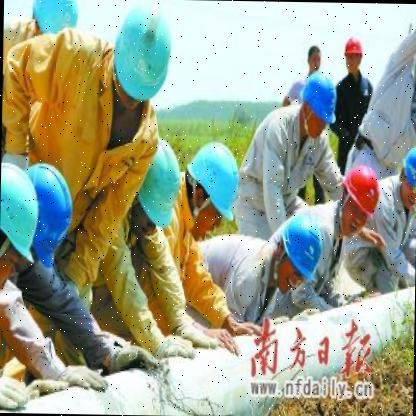capacete: (108, 5, 176, 106), (22, 160, 75, 270), (187, 136, 241, 221), (132, 140, 181, 232), (0, 151, 38, 269), (276, 208, 326, 286), (24, 0, 80, 62), (336, 156, 382, 222), (298, 66, 340, 125), (398, 138, 416, 199), (343, 32, 364, 58)
